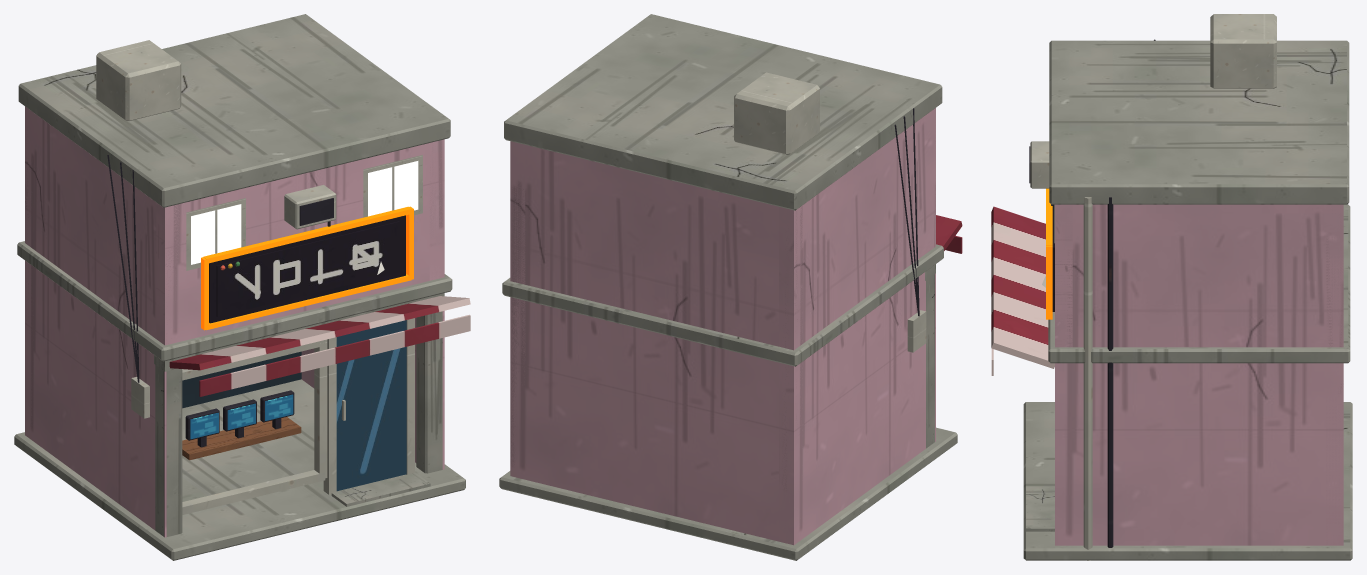
The model's file is servico_web-designer.glb.
3 views of the same model, side by side, from view 1: azimuth 30°, elevation 25°; view 2: azimuth 150°, elevation 25°; view 3: azimuth 270°, elevation 25° (orthographic). The views are drawn at different scales.
Parts seen in each view (by area): view 1: servico_web-designer; view 2: servico_web-designer; view 3: servico_web-designer.
Part boxes in pixels (x1=…): servico_web-designer: x1=14, y1=14, x2=470, y2=560; servico_web-designer: x1=499, y1=14, x2=962, y2=560; servico_web-designer: x1=991, y1=14, x2=1352, y2=560.
Size of the model in its own units: 3.18 by 4.2 by 3.25.
Materials: 5 (3 with a texture image).
